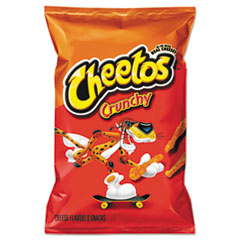cheetos: (41, 5, 195, 234)
